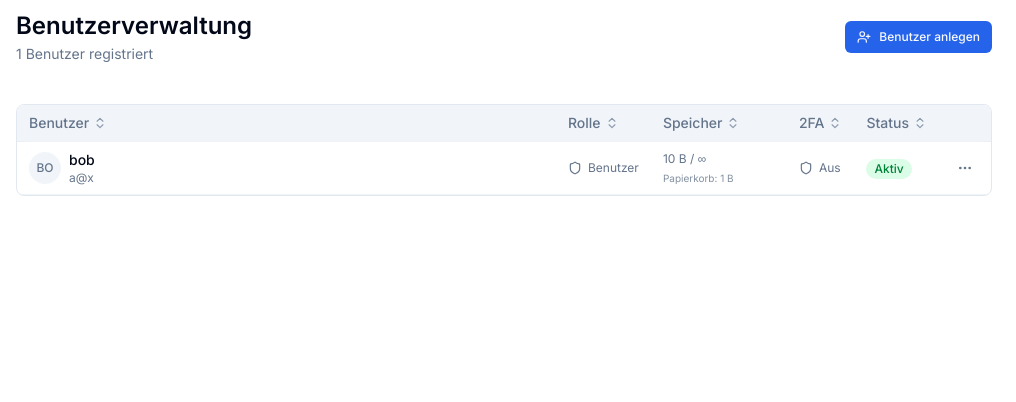
Test case: AdminPage — Rolle (via Aktionen-Menü) › Neu-berechnen-Eintrag ruft recomputeQuota und aktualisiert die Anzeige
Click the button named "Aktionen" at (965, 168), box [951,154,979,182]
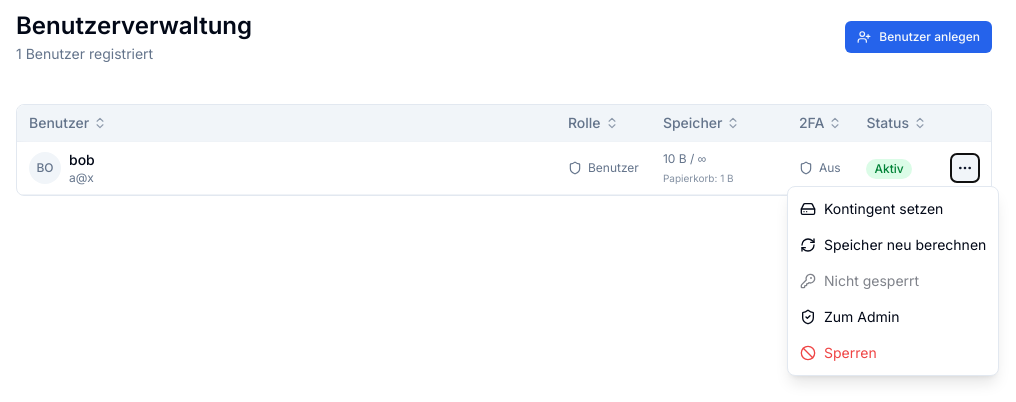
Click the menu item "Speicher neu berechnen" at (893, 245), box [788,227,998,263]
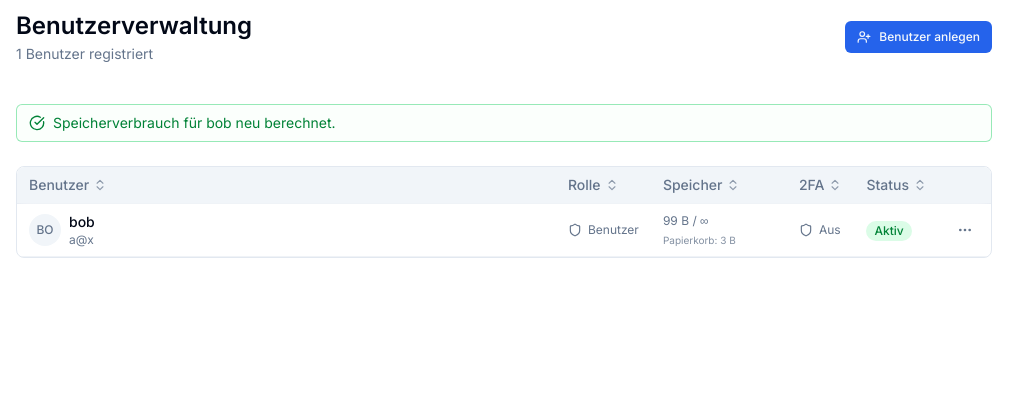
Now the text "Speicherverbrauch für bob neu berechnet." is shown, box [16,104,992,142]
